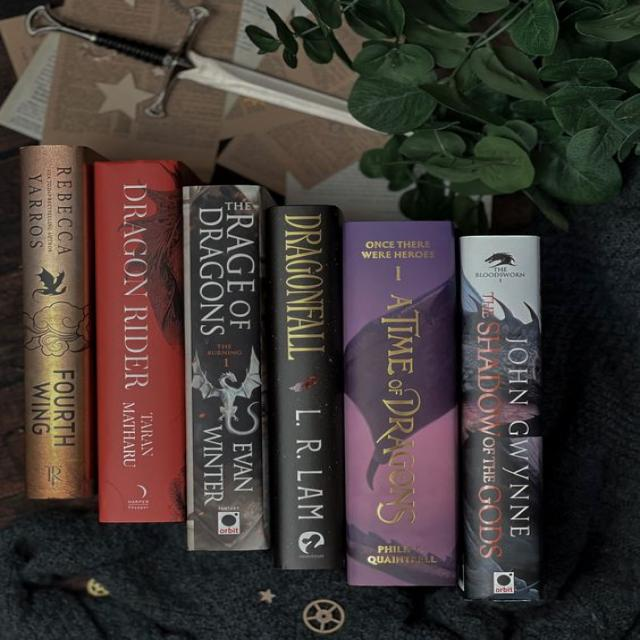book: (345, 218, 457, 584), (94, 161, 186, 522), (185, 184, 271, 549), (463, 237, 542, 599), (266, 204, 340, 568), (23, 144, 93, 496)
plants: (226, 0, 640, 180)
